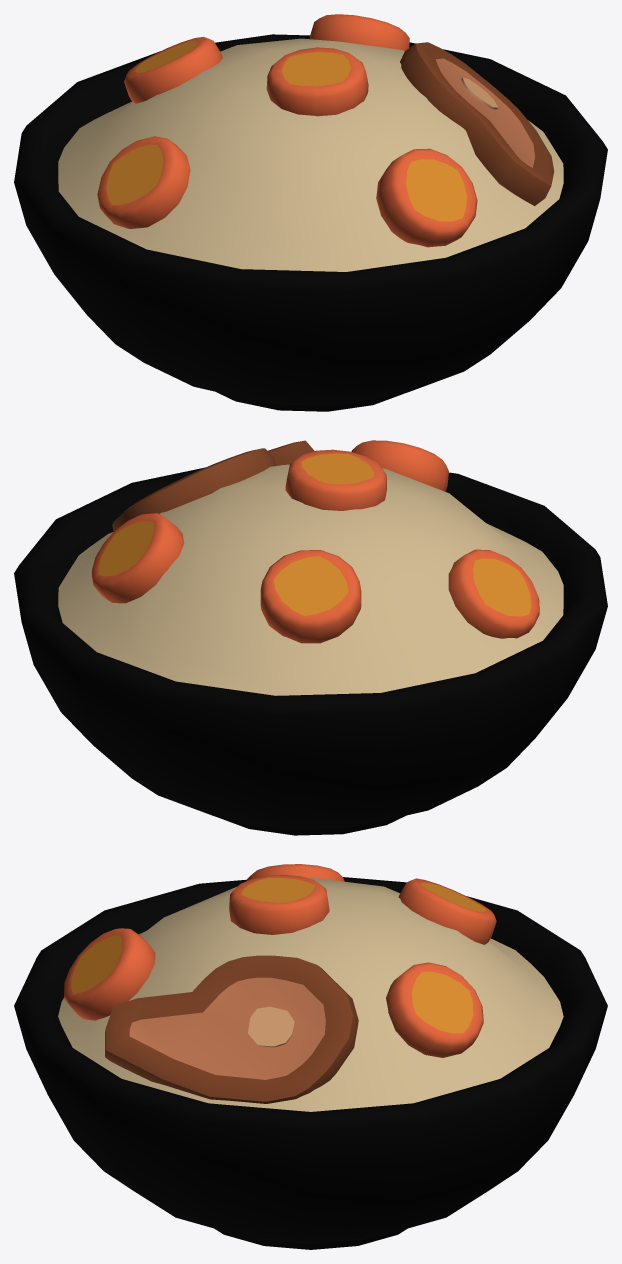
Rendered from ASFTR_Bowl_RiceHumanCarrot.fbx.
The picture shows the model from 3 angles, top to bottom: view 1: azimuth 30°, elevation 25°; view 2: azimuth 150°, elevation 25°; view 3: azimuth 270°, elevation 25°; orthographic projection.
Visible parts, largest first — view 1: ASFTR_Bowl_RiceHumanCarrot; view 2: ASFTR_Bowl_RiceHumanCarrot; view 3: ASFTR_Bowl_RiceHumanCarrot.
Boxes of the visible parts, bbox=[...] form: ASFTR_Bowl_RiceHumanCarrot: bbox=[14, 14, 607, 411]; ASFTR_Bowl_RiceHumanCarrot: bbox=[14, 440, 607, 835]; ASFTR_Bowl_RiceHumanCarrot: bbox=[14, 864, 607, 1249].
Bounding box in the file's own units: 60.78 × 34.55 × 60.78.
